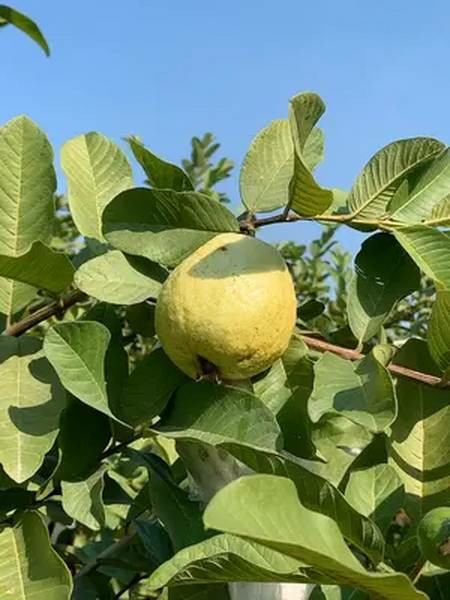pear: (155, 230, 296, 382)
